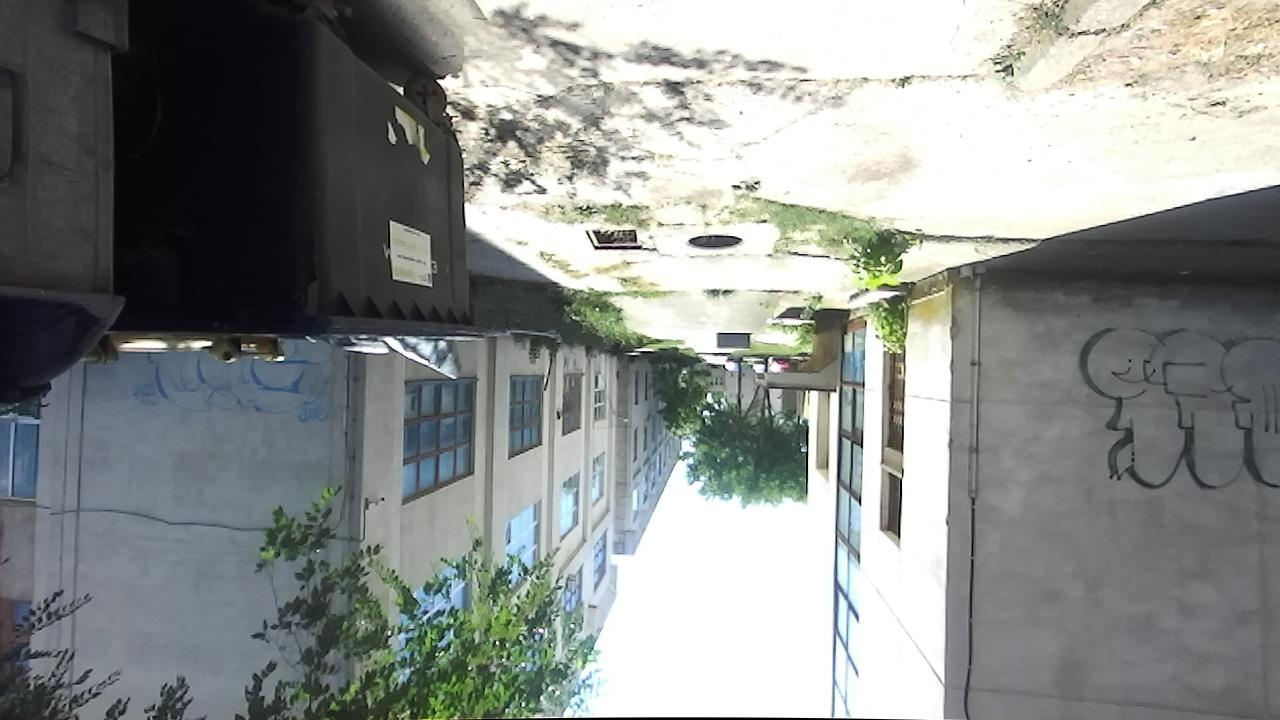drain: (580, 225, 646, 255), (683, 230, 744, 255)
